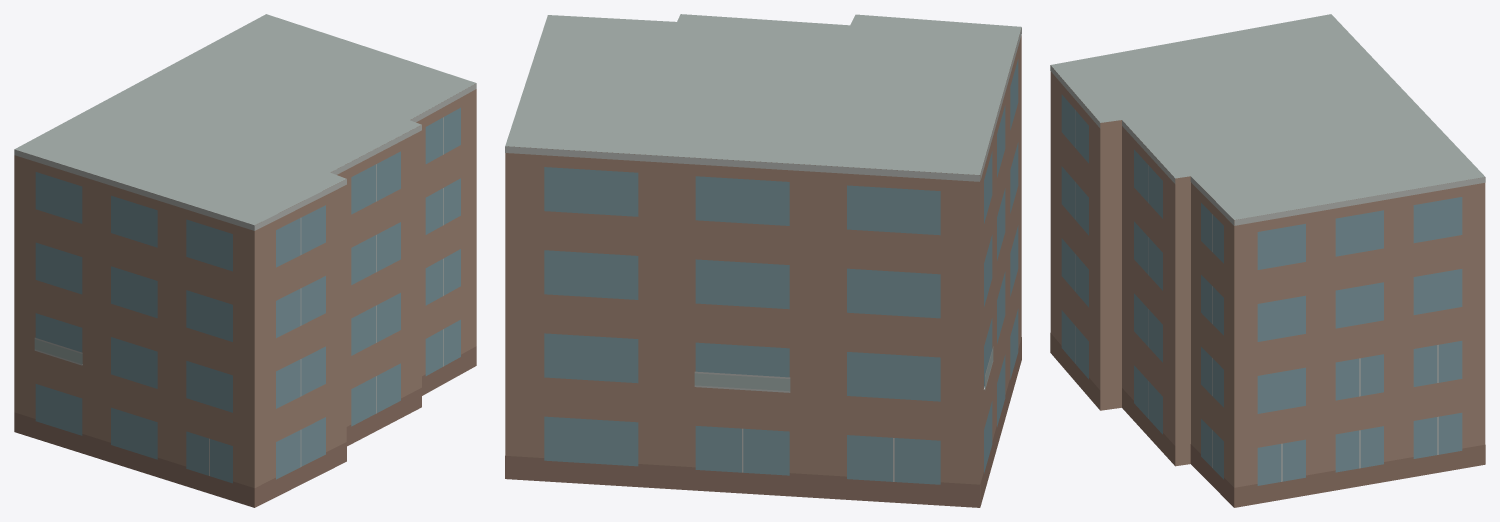
File: survey-upis-32844046.glb
The picture shows the model from 3 angles, left to right: view 1: azimuth 30°, elevation 25°; view 2: azimuth 150°, elevation 25°; view 3: azimuth 270°, elevation 25°; orthographic projection. The views are drawn at different scales.
Visible parts, largest first — view 1: survey-upis-32844046.tmp; view 2: survey-upis-32844046.tmp; view 3: survey-upis-32844046.tmp.
Boxes of the visible parts, x1=… form: survey-upis-32844046.tmp: x1=14, y1=14, x2=476, y2=507; survey-upis-32844046.tmp: x1=505, y1=14, x2=1021, y2=507; survey-upis-32844046.tmp: x1=1050, y1=14, x2=1485, y2=507.
Size of the model in its own units: 18.52 by 12.05 by 16.52.
